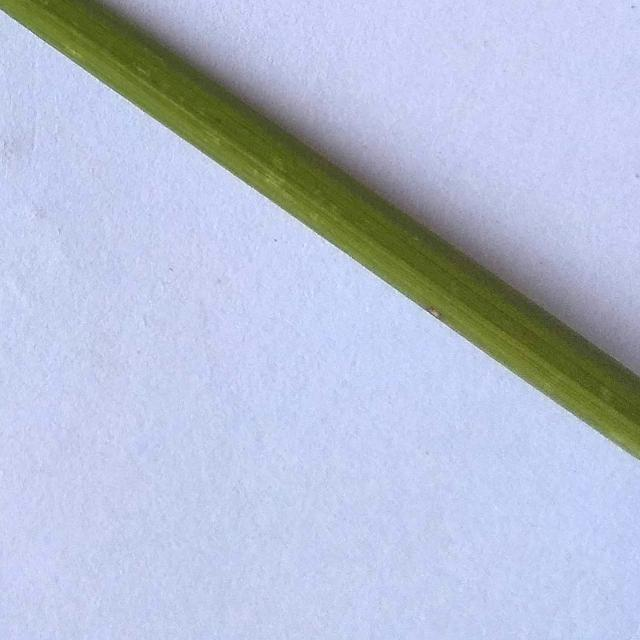Blast: (428, 308, 444, 316)
